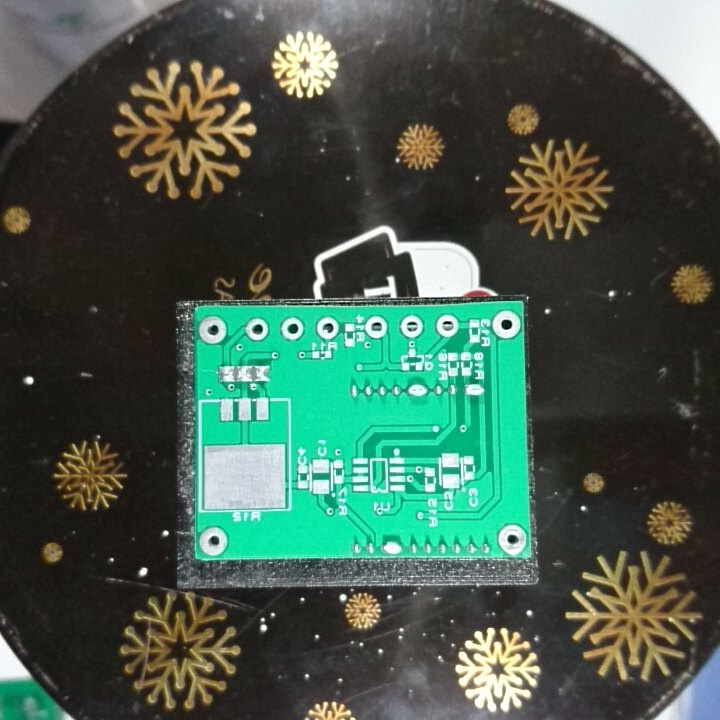F: (197, 524, 232, 558), (496, 522, 528, 557), (490, 309, 522, 341), (197, 314, 228, 346), (277, 315, 306, 343), (243, 315, 272, 343), (398, 312, 426, 340), (313, 314, 341, 341), (434, 312, 460, 339), (362, 315, 390, 340)
P: (405, 380, 431, 402), (379, 538, 404, 557), (462, 380, 485, 399)
